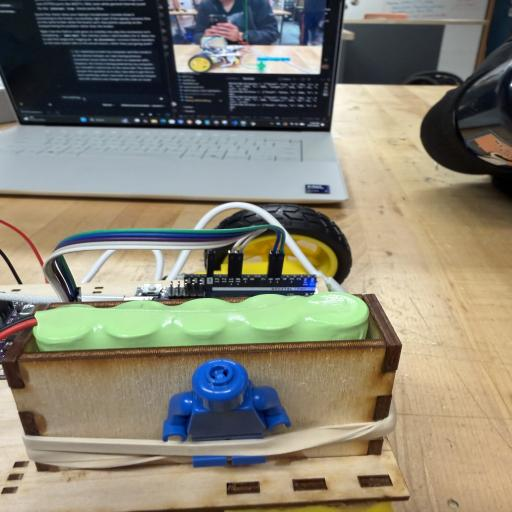Blue-Lego: (162, 358, 291, 442), (193, 450, 266, 467)
